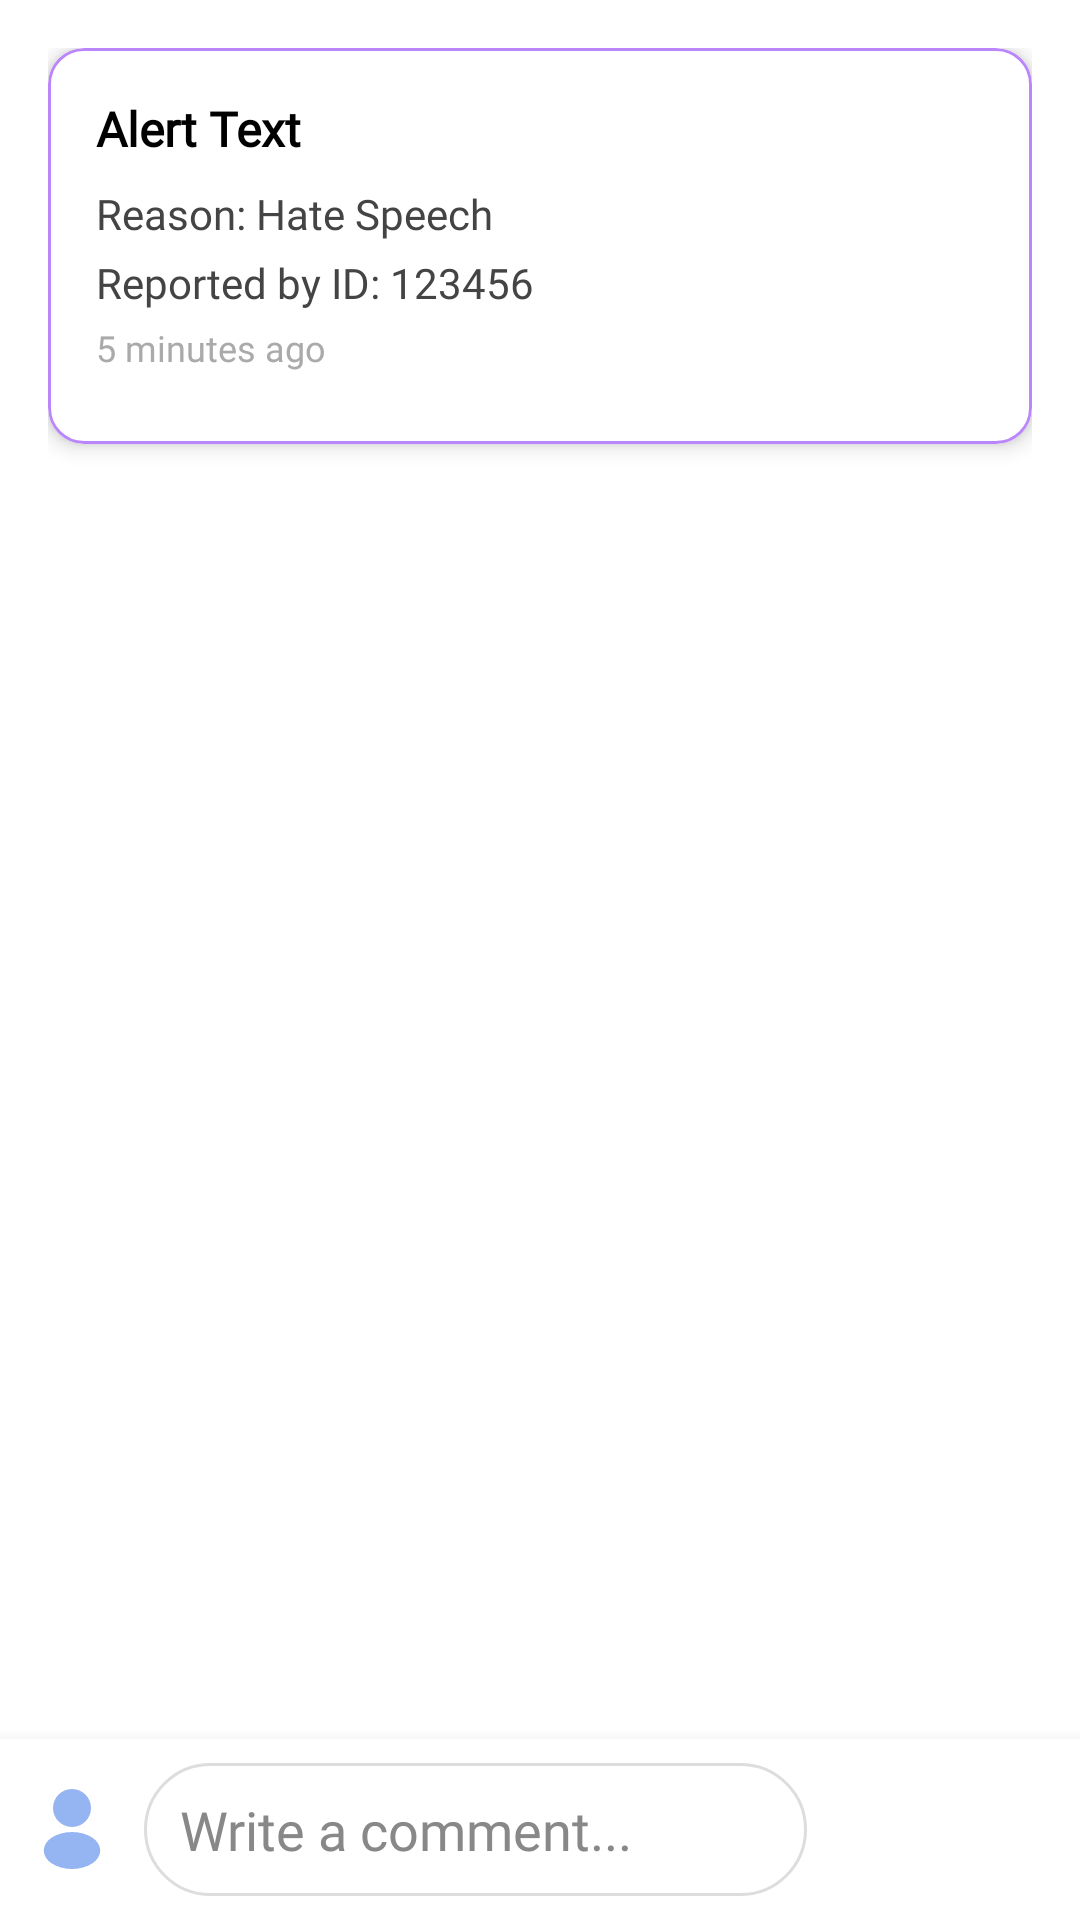

Screen size 1080px×1920px. Icon name, then its center in pixels as (x,y):
Profile Image: (72,1829)
